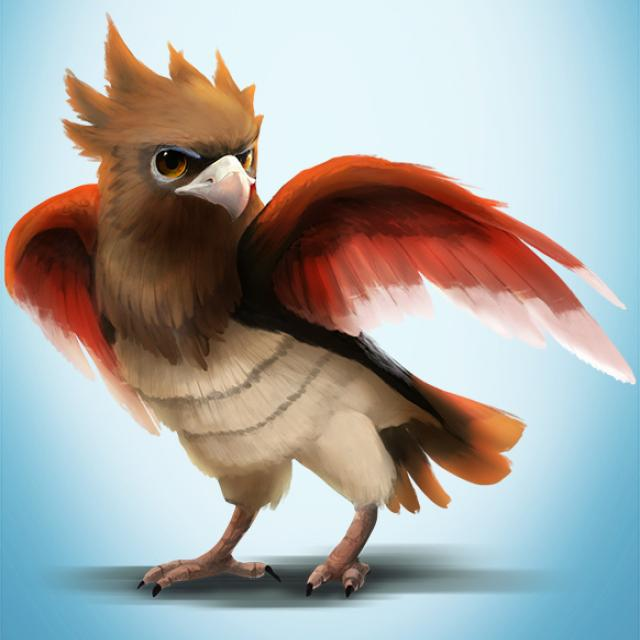Spearow: (37, 29, 416, 600)
